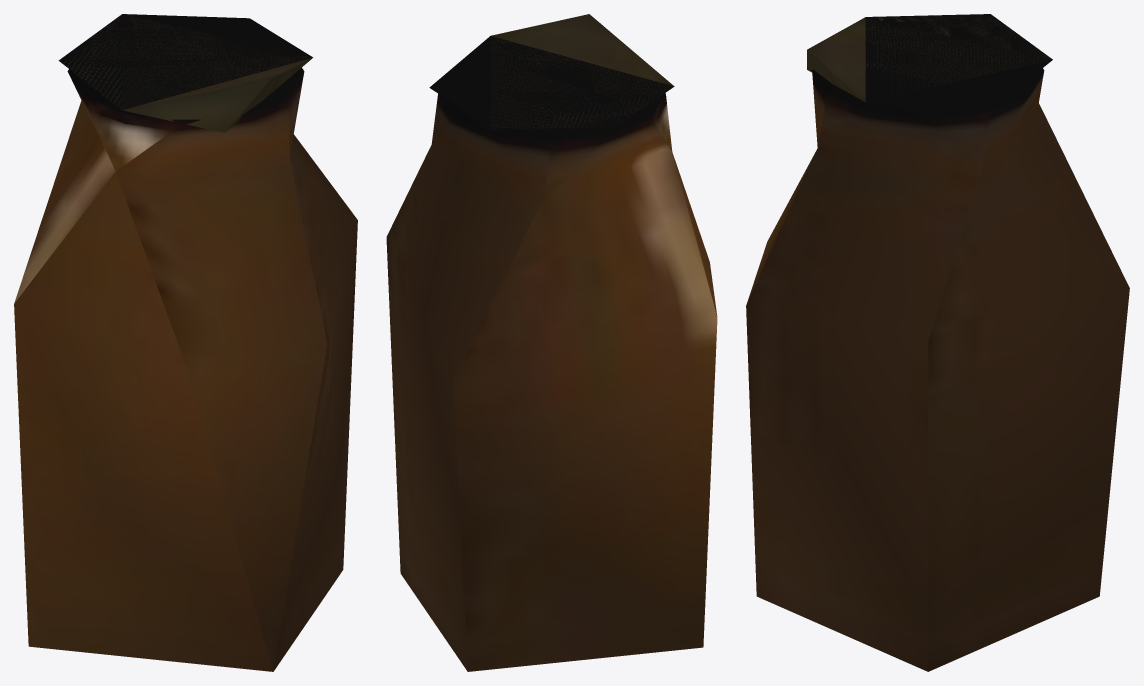
The model's file is cantina_prop_jar_A_large_lod1.glb.
3 views of the same model, side by side, from view 1: azimuth 30°, elevation 25°; view 2: azimuth 150°, elevation 25°; view 3: azimuth 270°, elevation 25° (orthographic). The views are drawn at different scales.
Visible parts, largest first — view 1: cantina_prop_jar_A_large; view 2: cantina_prop_jar_A_large; view 3: cantina_prop_jar_A_large.
Boxes of the visible parts, x1,y1,x2,y2 form: cantina_prop_jar_A_large: (14,14,357,671); cantina_prop_jar_A_large: (386,14,717,671); cantina_prop_jar_A_large: (746,14,1129,671).
Size of the model in its own units: 0.1677 by 0.2652 by 0.1653.
Materials: 1 (1 with a texture image).
